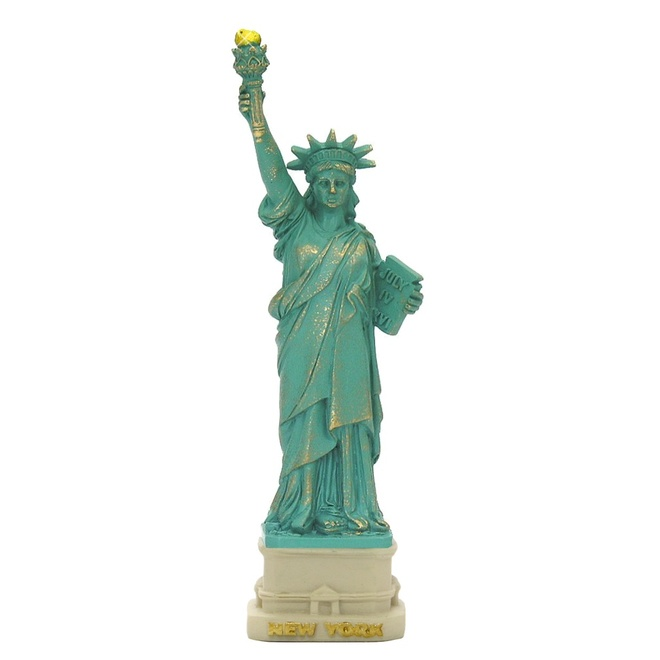person-like: (231, 26, 428, 540)
